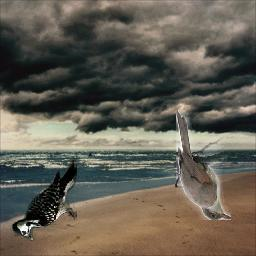Cuckoo: (177, 110, 232, 220)
Woodpecker: (11, 159, 78, 242)
